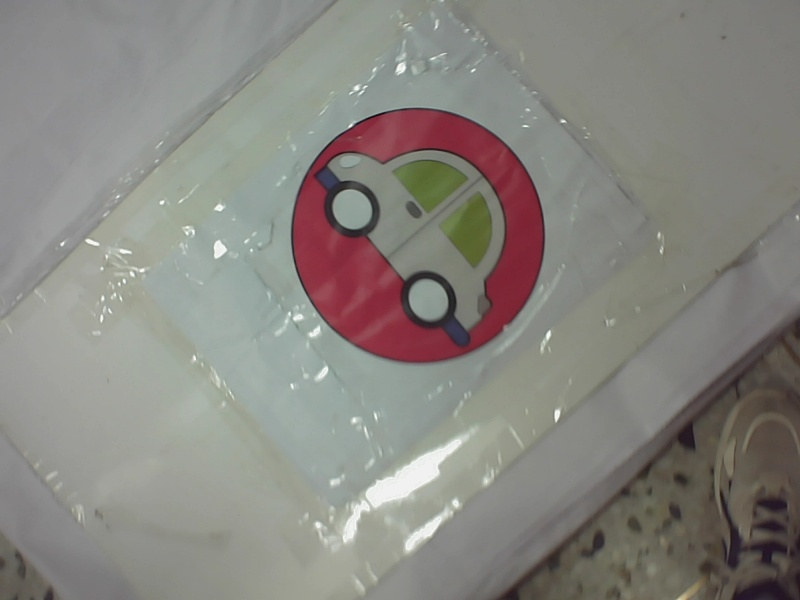areaC: (283, 98, 554, 364)
